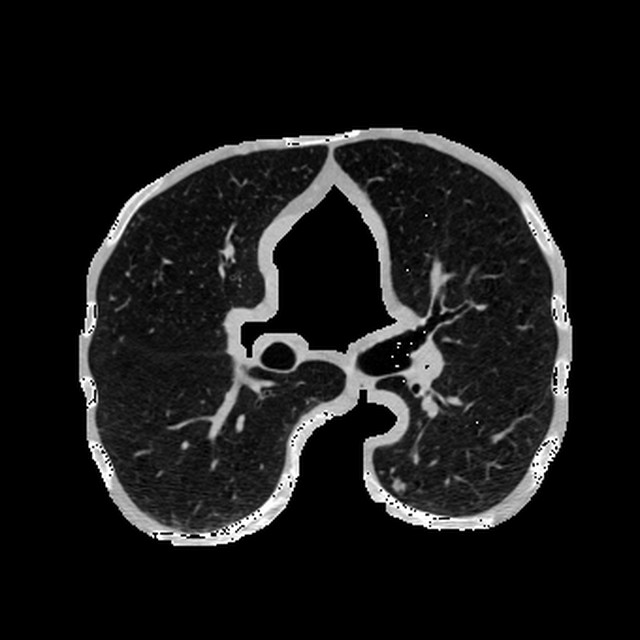PN: (392, 478, 403, 489)
